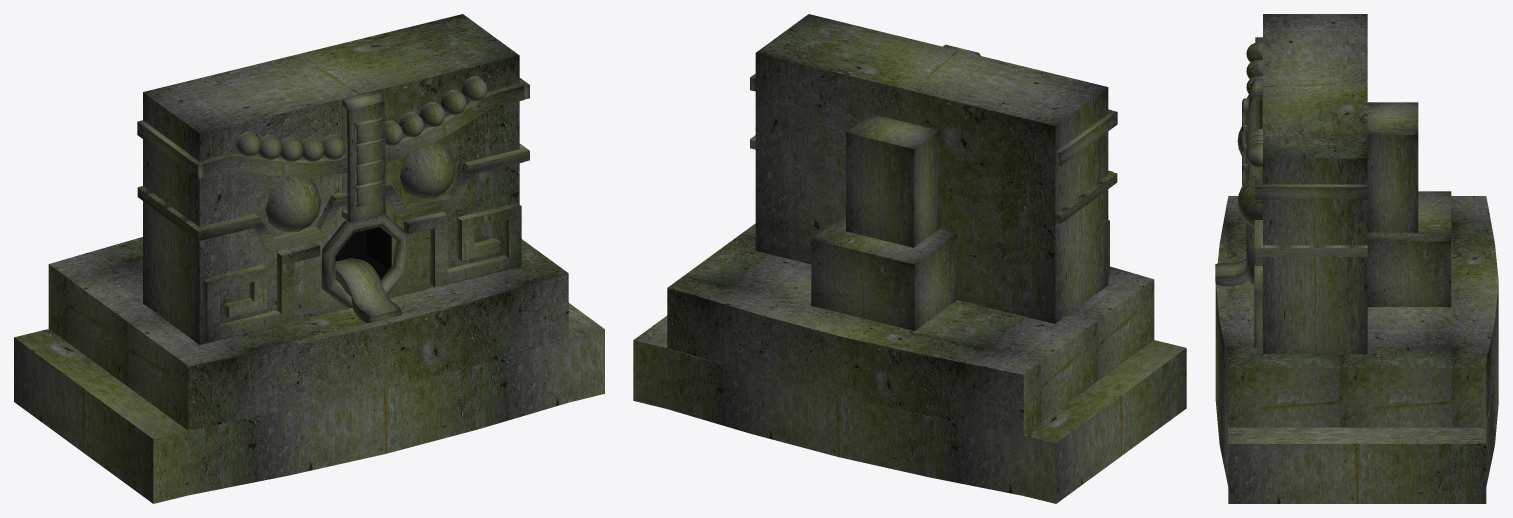
File: DartTrap.FBX
3 renders of one model, left to right at view 1: azimuth 30°, elevation 25°; view 2: azimuth 150°, elevation 25°; view 3: azimuth 270°, elevation 25°, orthographic. The views are drawn at different scales.
Parts seen in each view (by area): view 1: Box003, Box002, Box001, Box042, Box039, Box015, Torus001, Box004, Box038, Box035, Capsule014, Box034 (+6 smaller); view 2: Box003, Box002, Box001, Box009, Box010, Box041, Box042; view 3: Box002, Box003, Box001, Box009, Box010, Box040, Box042, Capsule001, Box015, Box004, Box038, Torus001 (+1 smaller).
Boxes of the visible parts, x1=… form: Box003: x1=143, y1=14, x2=519, y2=344; Box002: x1=48, y1=237, x2=568, y2=430; Box001: x1=14, y1=303, x2=604, y2=503; Box042: x1=137, y1=143, x2=529, y2=251; Box039: x1=202, y1=242, x2=320, y2=342; Box015: x1=404, y1=203, x2=521, y2=286; Torus001: x1=321, y1=214, x2=406, y2=308; Box004: x1=342, y1=91, x2=385, y2=222; Box038: x1=335, y1=258, x2=401, y2=322; Box035: x1=200, y1=154, x2=347, y2=177; Capsule014: x1=265, y1=176, x2=321, y2=232; Box034: x1=385, y1=83, x2=524, y2=162; Box003: x1=755, y1=14, x2=1108, y2=323; Box002: x1=667, y1=223, x2=1154, y2=435; Box001: x1=633, y1=315, x2=1186, y2=503; Box009: x1=811, y1=214, x2=956, y2=330; Box010: x1=846, y1=114, x2=939, y2=247; Box041: x1=1055, y1=110, x2=1117, y2=165; Box042: x1=750, y1=135, x2=1117, y2=223; Box002: x1=1215, y1=196, x2=1498, y2=427; Box003: x1=1263, y1=14, x2=1367, y2=353; Box001: x1=1215, y1=342, x2=1498, y2=503; Box009: x1=1367, y1=191, x2=1451, y2=306; Box010: x1=1367, y1=102, x2=1418, y2=232; Box040: x1=1255, y1=184, x2=1367, y2=199; Box042: x1=1254, y1=220, x2=1367, y2=256; Capsule001: x1=1237, y1=176, x2=1262, y2=227; Box015: x1=1254, y1=233, x2=1262, y2=347; Box004: x1=1248, y1=79, x2=1262, y2=179; Box038: x1=1215, y1=258, x2=1246, y2=286; Torus001: x1=1246, y1=222, x2=1254, y2=284.
Bounding box in the file's own units: 30.99 × 22.36 × 18.22.
Materials: 2 (1 with a texture image).
